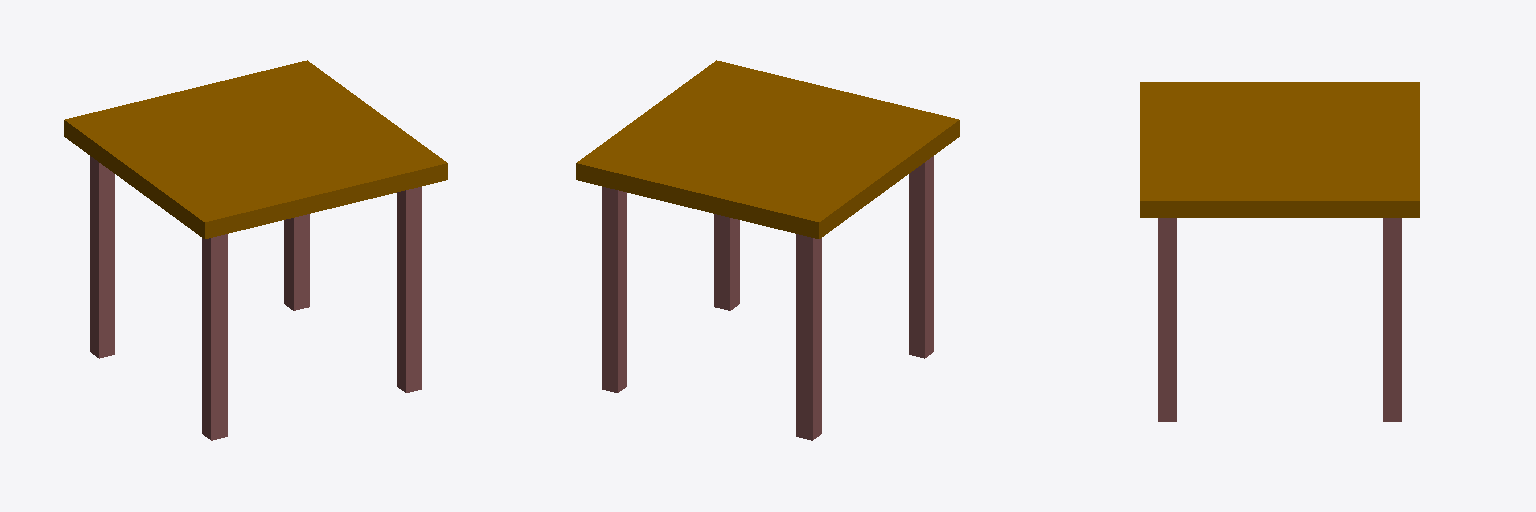
3 views of the same model, side by side, from view 1: azimuth 30°, elevation 25°; view 2: azimuth 150°, elevation 25°; view 3: azimuth 270°, elevation 25° (orthographic).
Parts seen in each view (by area): view 1: chair1; view 2: chair1; view 3: chair1.
Boxes of the visible parts, <box> form: chair1: <box>64,60,447,440</box>; chair1: <box>576,60,959,440</box>; chair1: <box>1140,82,1419,421</box>.
Size of the model in its own units: 3 by 2.7 by 3.
Materials: 1 (1 with a texture image).